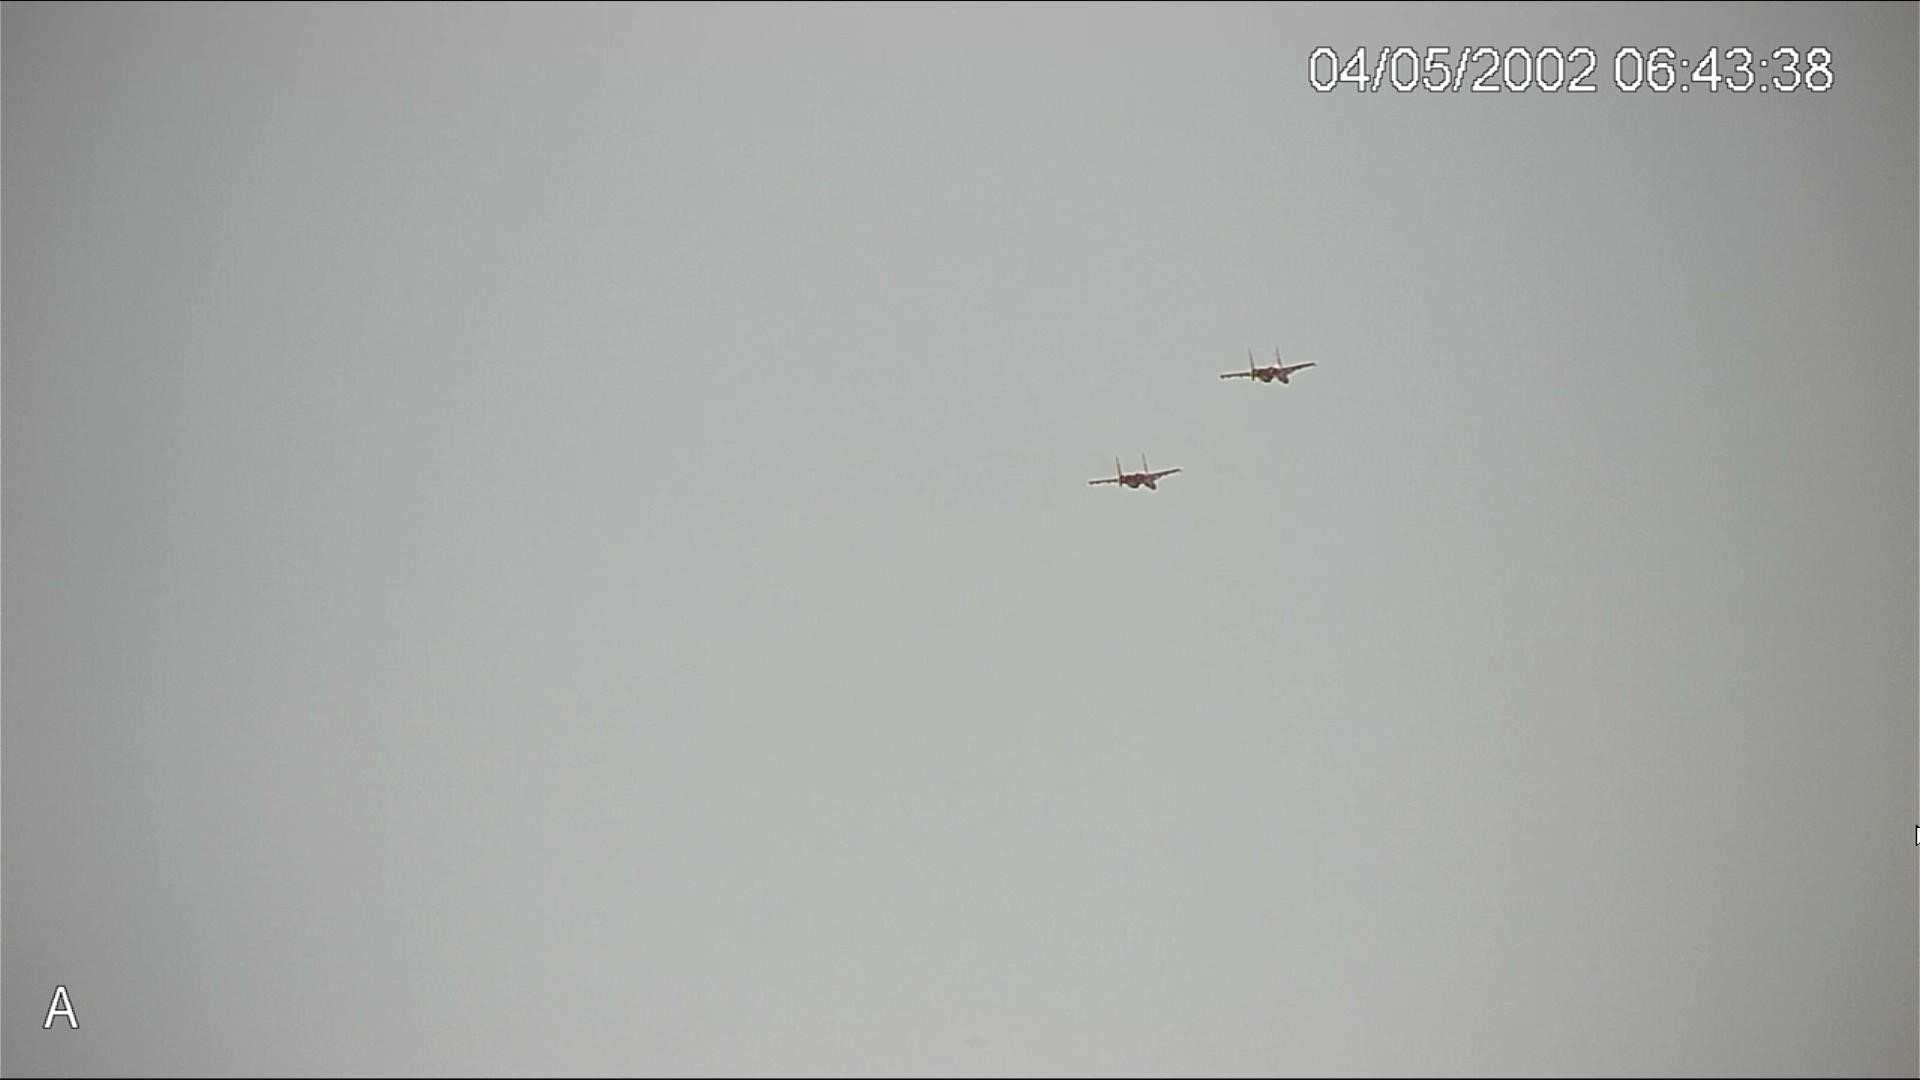SU_30: (1089, 448, 1192, 498), (1218, 345, 1323, 389)
